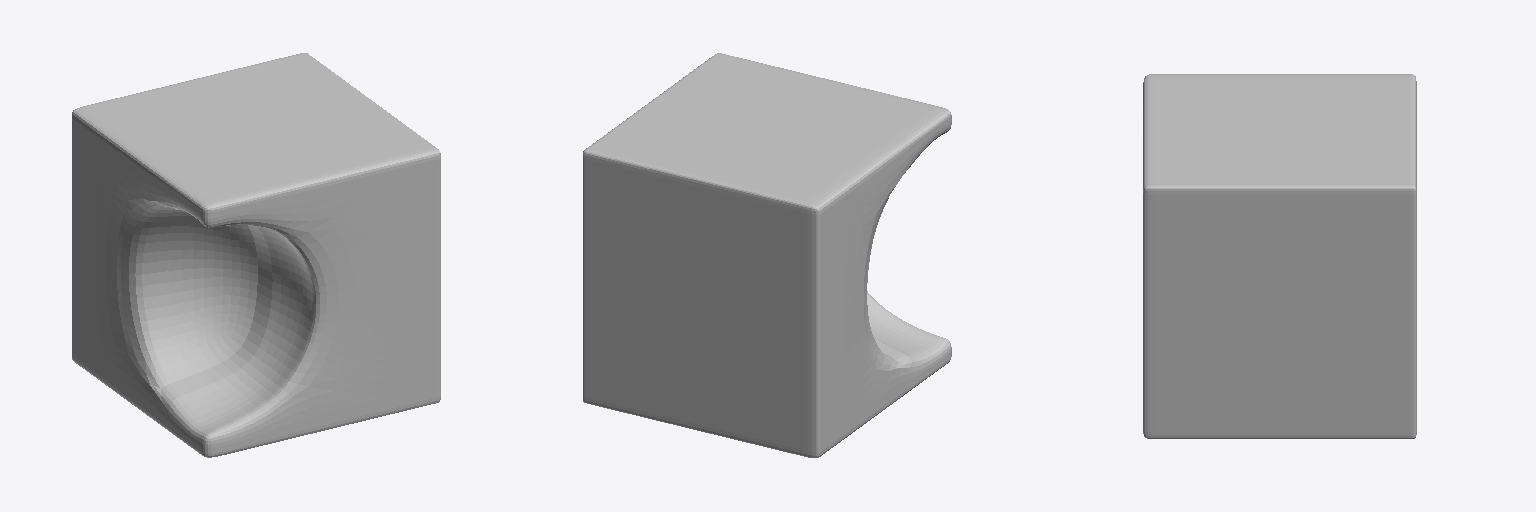
File: 15766_Abstract_Chair-Concave_Cube_v1_NEW.obj
The picture shows the model from 3 angles: view 1: azimuth 30°, elevation 25°; view 2: azimuth 150°, elevation 25°; view 3: azimuth 270°, elevation 25°; orthographic projection.
Visible parts, largest first — view 1: 15766_Abstract_Chair_Concave_Cube; view 2: 15766_Abstract_Chair_Concave_Cube; view 3: 15766_Abstract_Chair_Concave_Cube.
Part boxes in pixels (left/top/right/bottom): 15766_Abstract_Chair_Concave_Cube: left=72, top=53, right=440, bottom=457; 15766_Abstract_Chair_Concave_Cube: left=583, top=53, right=951, bottom=457; 15766_Abstract_Chair_Concave_Cube: left=1143, top=74, right=1416, bottom=438.
Size of the model in its own units: 122 by 125 by 122.